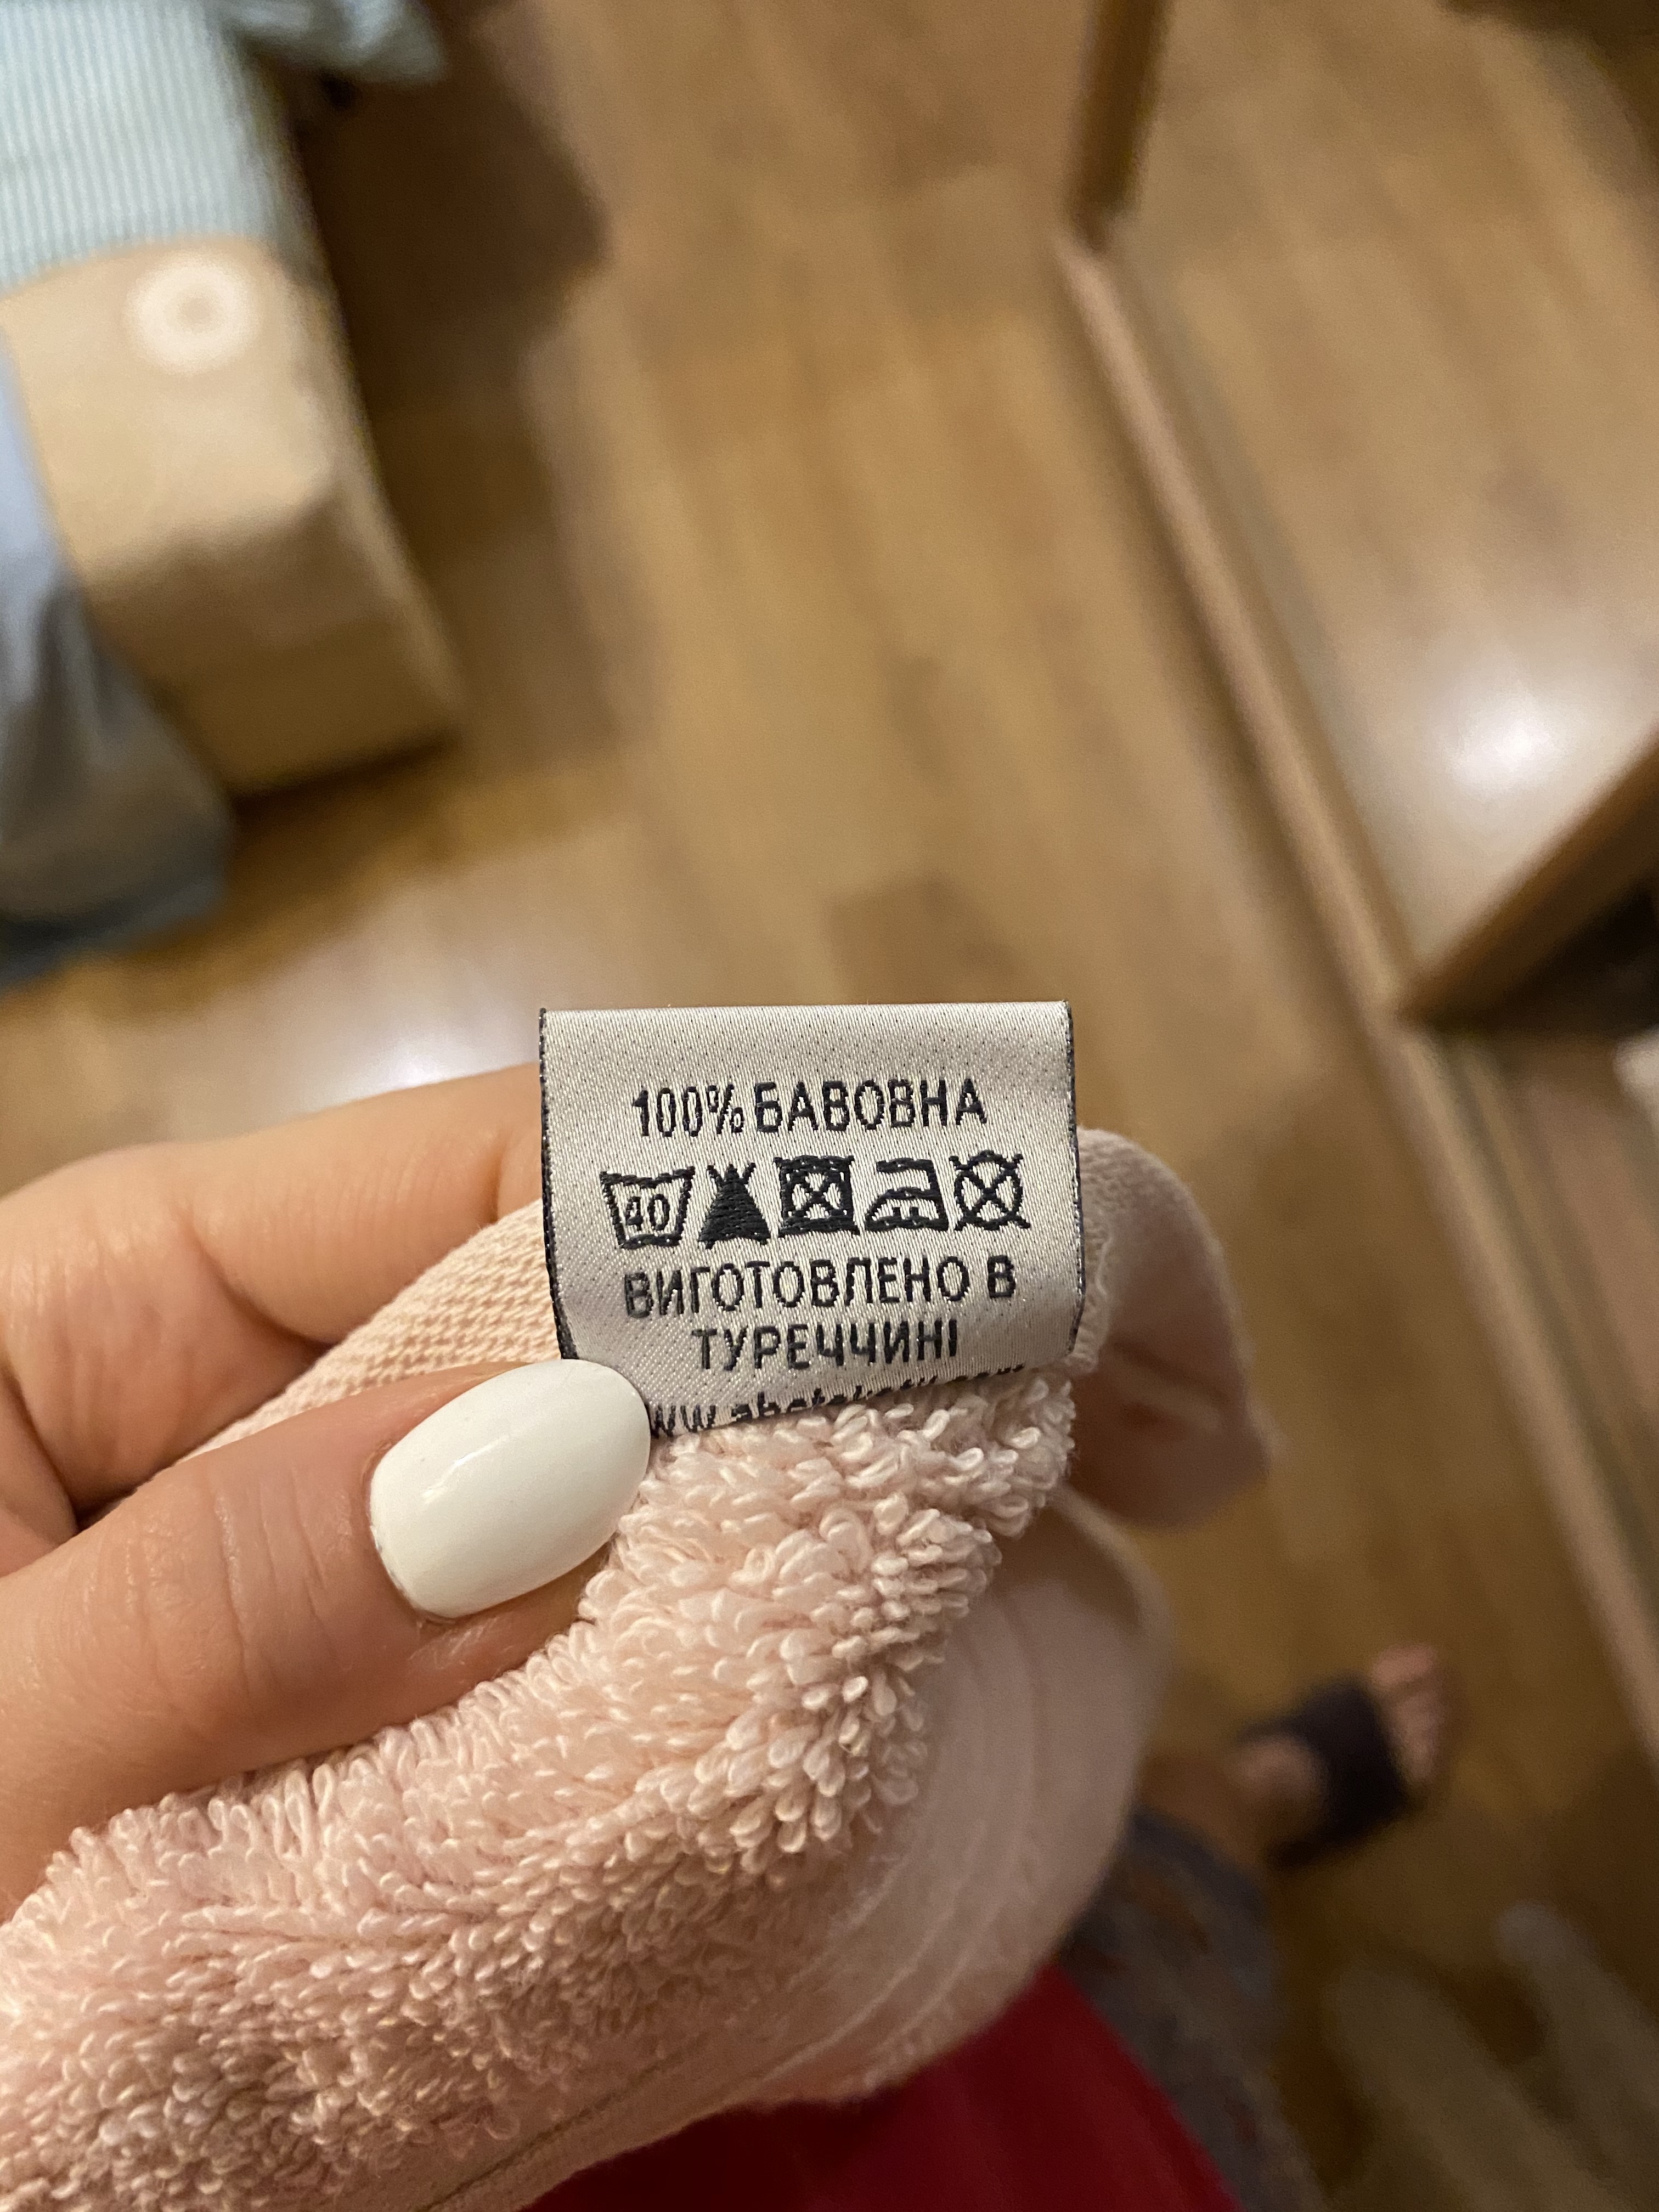do_not_bleach: (694, 1151, 775, 1258)
do_not_dry_clean: (950, 1141, 1035, 1240)
do_not_tumble_drying: (774, 1148, 864, 1244)
ironing_at_med_temp: (863, 1148, 953, 1238)
wash_at_or_below_40: (598, 1153, 701, 1254)
